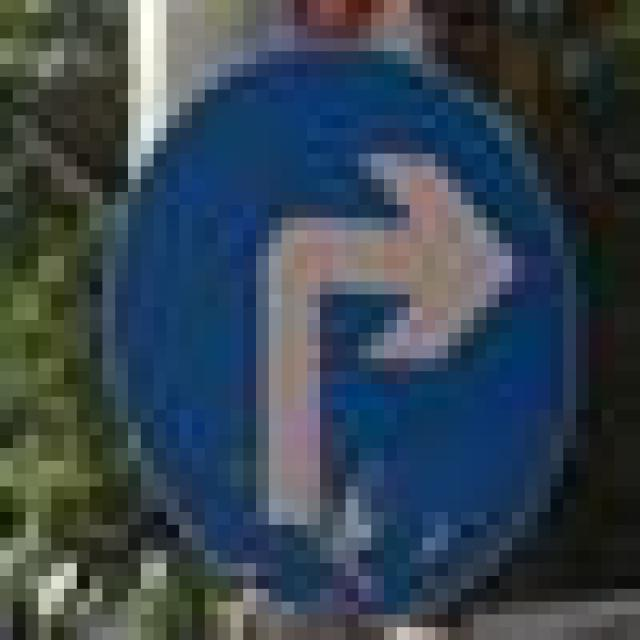railway_crossing: (77, 39, 563, 602)
